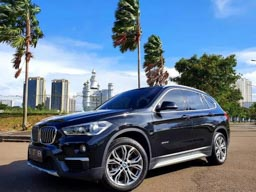plat: (25, 147, 43, 162)
